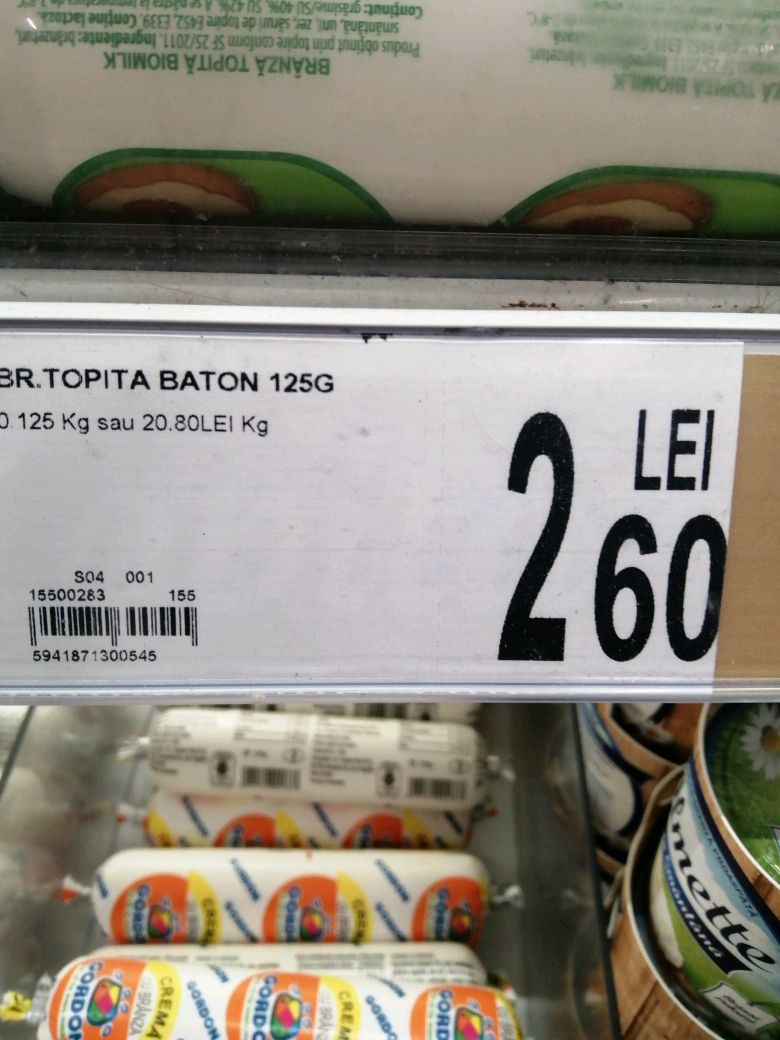price_bani: (592, 502, 735, 672)
price_lei: (484, 404, 587, 671)
price_tag: (1, 334, 754, 709)
product_id: (25, 641, 161, 675)
product_name: (1, 363, 342, 397)
